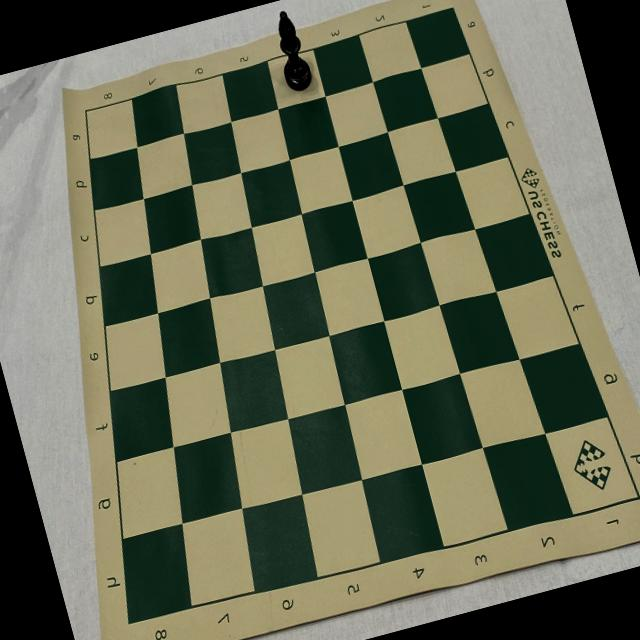black-bishop: (267, 8, 315, 94)
